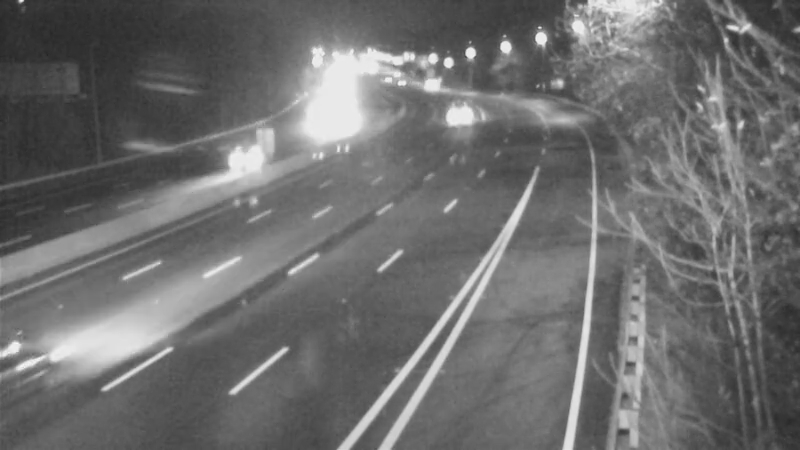vehicle: (1, 314, 94, 424), (187, 128, 267, 208), (422, 95, 472, 145)
